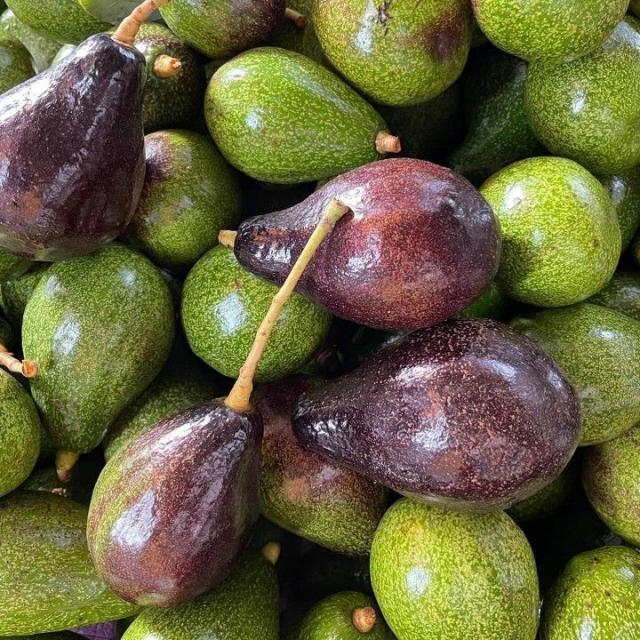avocado: (87, 200, 347, 605), (294, 319, 580, 511), (234, 159, 501, 329), (0, 34, 144, 261), (23, 243, 174, 452), (205, 48, 399, 183), (252, 379, 389, 556), (371, 499, 538, 639), (480, 157, 620, 306), (0, 491, 137, 635), (512, 304, 639, 445), (526, 16, 639, 174), (313, 0, 471, 105), (127, 130, 241, 271), (123, 553, 279, 639), (104, 347, 221, 460), (448, 46, 543, 184), (182, 245, 277, 377), (472, 0, 628, 63), (541, 546, 639, 639), (134, 24, 205, 133), (135, 23, 205, 132), (160, 0, 286, 59), (375, 82, 463, 163), (584, 425, 639, 548), (0, 369, 39, 495), (508, 458, 579, 525), (20, 450, 103, 506), (8, 0, 111, 44), (295, 592, 391, 639), (292, 546, 372, 602), (266, 0, 329, 66), (0, 9, 59, 72), (597, 167, 639, 250), (0, 262, 48, 329), (588, 272, 639, 320), (0, 29, 34, 94), (458, 282, 506, 319), (0, 250, 32, 286)
